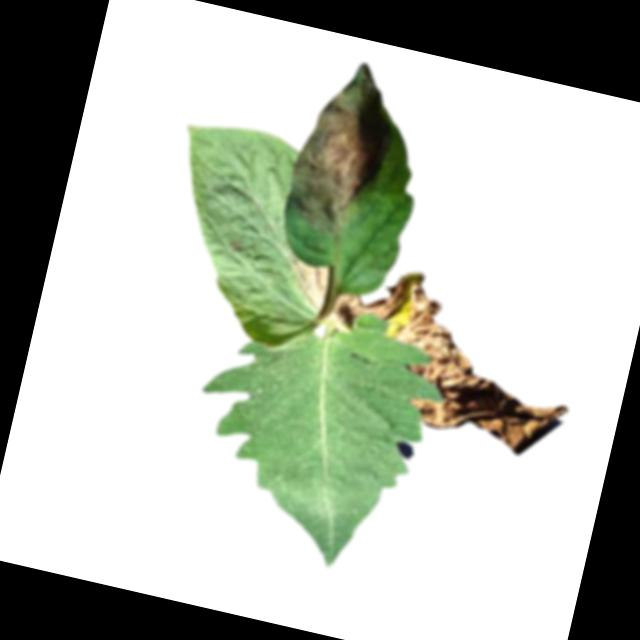Late_blight: (342, 260, 591, 462), (277, 50, 409, 248), (279, 257, 333, 313), (328, 290, 367, 331), (225, 234, 244, 253)
healthy: (168, 285, 458, 586)
